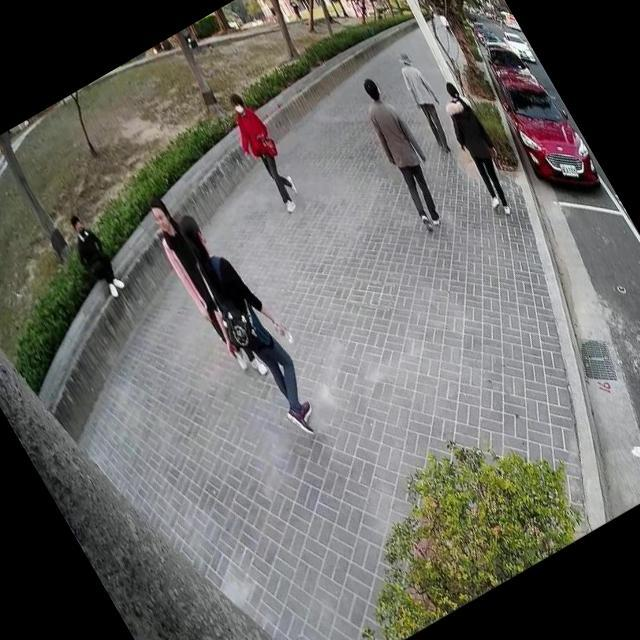person: (154, 192, 345, 456), (134, 185, 274, 393), (339, 65, 464, 238), (423, 72, 531, 222), (209, 81, 310, 221), (380, 39, 470, 163), (57, 208, 131, 306)
